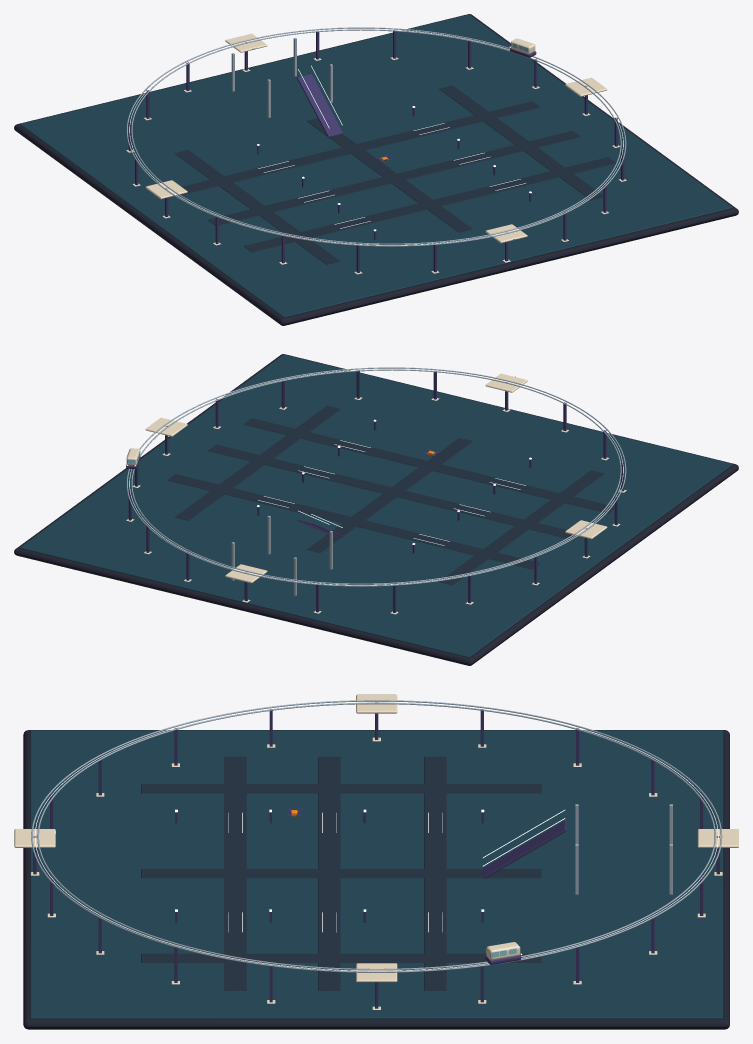
File: transport.glb
3 renders of one model, top to bottom at view 1: azimuth 30°, elevation 25°; view 2: azimuth 150°, elevation 25°; view 3: azimuth 270°, elevation 25°, orthographic. The views are drawn at different scales.
Visible parts, largest first — view 1: Reflecting lagoon, Floating city base, Glossy east west street.002, Glossy east west street, Glossy east west street.001, Panoramic monorail metal.001, Panoramic monorail metal, Glossy avenue.002, Glossy avenue, Glossy avenue.001, Panoramic monorail light, Brain bridge; view 2: Reflecting lagoon, Floating city base, Glossy east west street, Glossy east west street.001, Glossy east west street.002, Glossy avenue.002, Panoramic monorail metal.001, Glossy avenue, Panoramic monorail metal, Glossy avenue.001, Panoramic monorail light; view 3: Reflecting lagoon, Floating city base, Glossy east west street, Glossy east west street.001, Glossy east west street.002, Glossy avenue, Panoramic monorail metal.001, Panoramic monorail metal, Glossy avenue.001, Glossy avenue.002, Panoramic monorail light, Brain bridge (+4 smaller).
Boxes of the visible parts, x1,y1,x2,y2 form: Reflecting lagoon: [20, 14, 732, 317]; Floating city base: [14, 14, 738, 325]; Glossy east west street.002: [243, 157, 615, 252]; Glossy east west street: [208, 130, 580, 225]; Glossy east west street.001: [176, 101, 540, 196]; Panoramic monorail metal.001: [126, 27, 626, 246]; Panoramic monorail metal: [131, 29, 621, 244]; Glossy avenue.002: [439, 85, 603, 200]; Glossy avenue: [175, 150, 340, 264]; Glossy avenue.001: [307, 118, 472, 232]; Panoramic monorail light: [129, 28, 623, 245]; Brain bridge: [297, 74, 343, 137]; Reflecting lagoon: [20, 354, 732, 657]; Floating city base: [14, 354, 738, 665]; Glossy east west street: [208, 444, 576, 539]; Glossy east west street.001: [167, 474, 540, 569]; Glossy east west street.002: [244, 418, 614, 513]; Glossy avenue.002: [175, 405, 340, 520]; Panoramic monorail metal.001: [126, 367, 626, 586]; Glossy avenue: [439, 470, 604, 585]; Panoramic monorail metal: [131, 369, 621, 584]; Glossy avenue.001: [307, 438, 472, 552]; Panoramic monorail light: [129, 368, 623, 585]; Reflecting lagoon: [30, 730, 722, 1018]; Floating city base: [23, 730, 729, 1029]; Glossy east west street: [318, 756, 340, 990]; Glossy east west street.001: [424, 756, 446, 990]; Glossy east west street.002: [224, 756, 246, 990]; Glossy avenue: [141, 784, 541, 793]; Panoramic monorail metal.001: [31, 700, 722, 972]; Panoramic monorail metal: [37, 702, 715, 970]; Glossy avenue.001: [141, 869, 541, 878]; Glossy avenue.002: [141, 953, 541, 962]; Panoramic monorail light: [34, 702, 718, 971]; Brain bridge: [483, 820, 566, 878].
Bounding box in the file's own units: 59 × 6.6 × 61.54.
